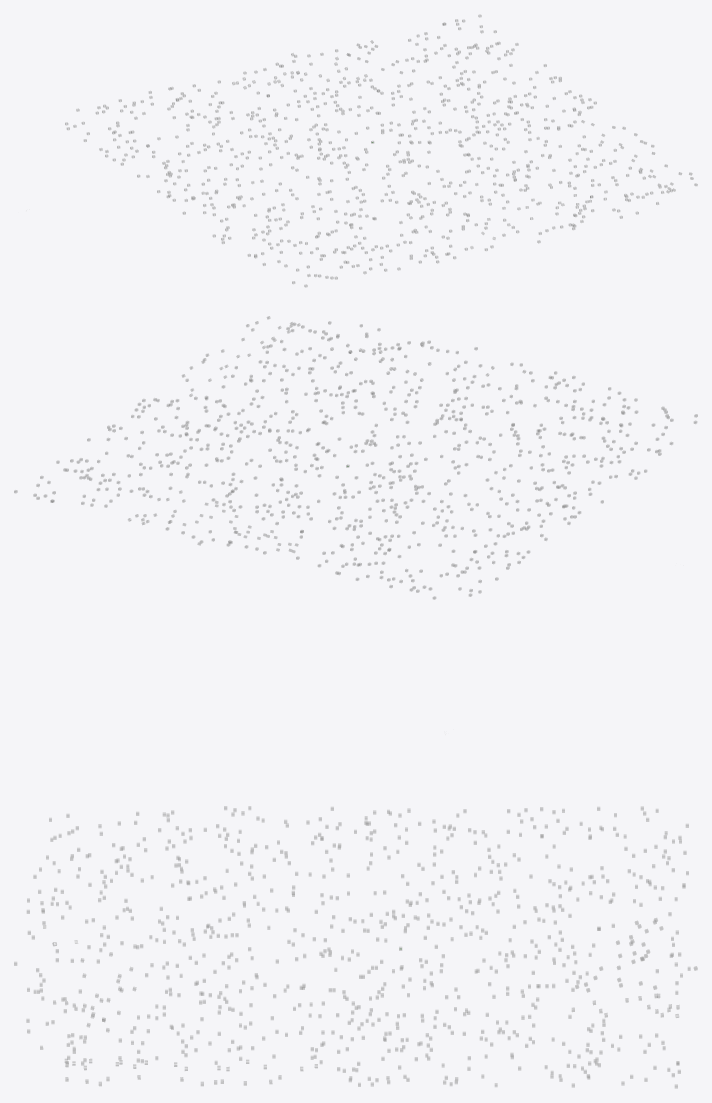
The model's file is onlyCubes.glb.
3 renders of one model, top to bottom at view 1: azimuth 30°, elevation 25°; view 2: azimuth 150°, elevation 25°; view 3: azimuth 270°, elevation 25°, orthographic. The views are drawn at different scales.
Bounding box in the file's own units: 600 × 82.62 × 482.
5 materials, 3 textured.
